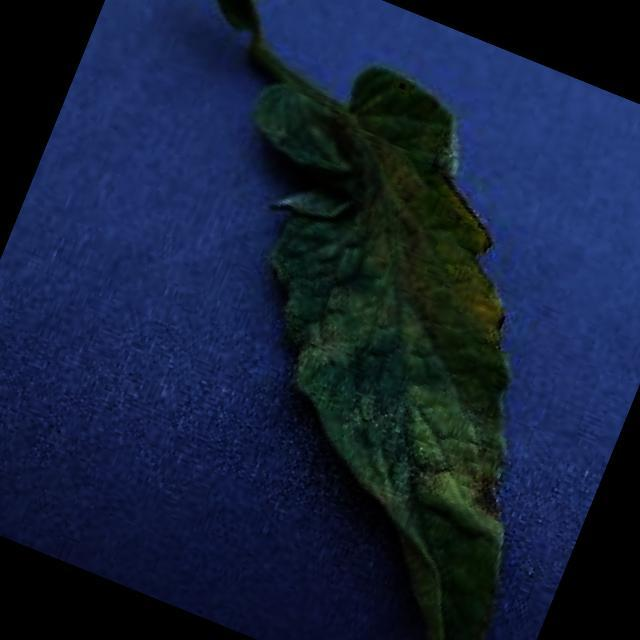Tomato mold leaf: (73, 29, 640, 640)
